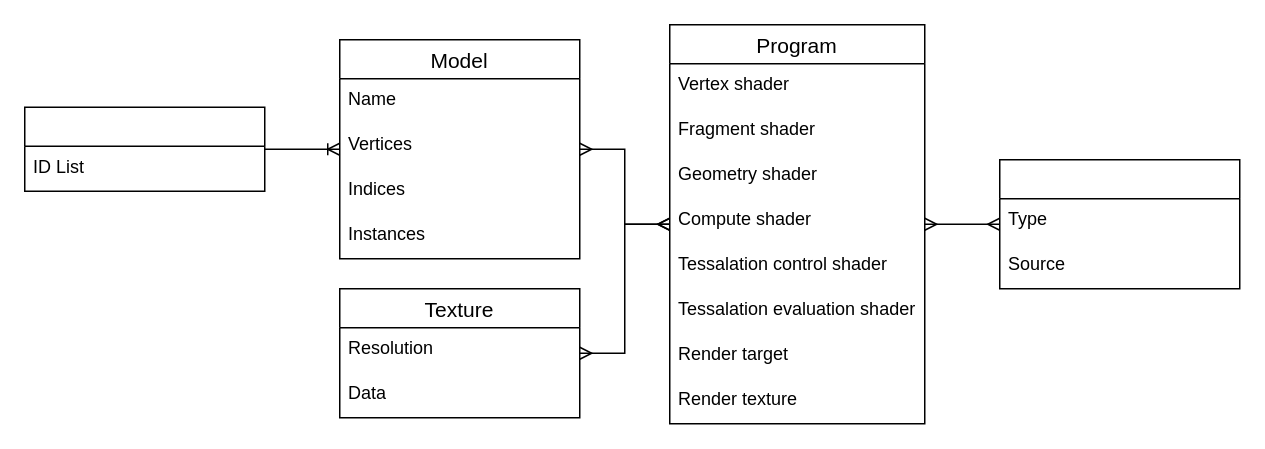
This 1265x449 diagram has some shape labels left out. Each missing label, with the box of its shape:
Scene: (23, 106, 265, 191)
Shader: (998, 158, 1240, 289)
